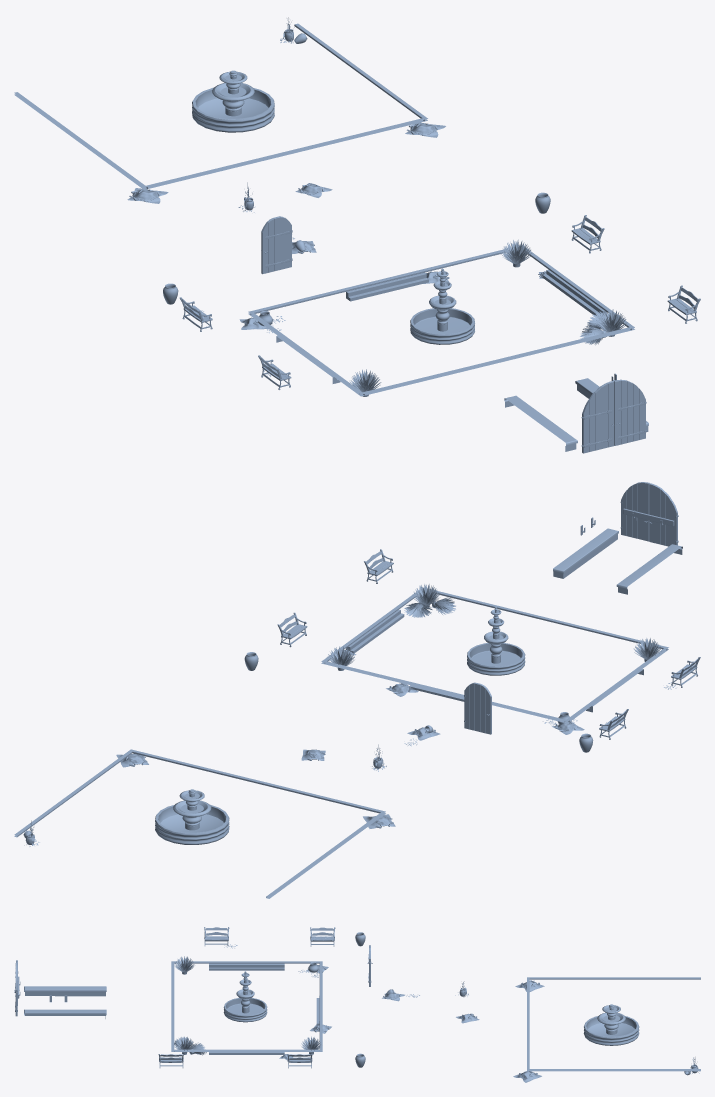
The model's file is SM_floor1_assets.fbx.
3 views of the same model, one above another, from view 1: azimuth 30°, elevation 25°; view 2: azimuth 150°, elevation 25°; view 3: azimuth 270°, elevation 25° (orthographic). The views are drawn at different scales.
Parts seen in each view (by area): view 1: polySurface1, Treim_floorbalcomy1, polySurface690, Fountian_high:polySurface1, polySurface783, polySurface784, Dining_table_v01:Dining_table_v01:polySurface148, Hallway52, Fireplace:polySurface19, Hallway53; view 2: polySurface1, Treim_floorbalcomy1, polySurface690, Fountian_high:polySurface1, polySurface783, polySurface784, Dining_table_v01:Dining_table_v01:polySurface148, Fireplace:polySurface20, Fireplace:polySurface19; view 3: polySurface1, Treim_floorbalcomy1, polySurface690, Fountian_high:polySurface1, Fireplace:polySurface19, Hallway54, Fireplace:polySurface20, Fireplace:Fireplace:Fireplace:Fireplace:polySurface1, table_Bench:polySurface1, Fireplace:Fireplace:Fireplace:Fireplace:polySurface103, Fireplace:Fireplace:Fireplace:Fireplace:polySurface102.
Part boxes in pixels (x1=…): polySurface1: x1=192, y1=70, x2=274, y2=132; Treim_floorbalcomy1: x1=248, y1=245, x2=634, y2=396; polySurface690: x1=14, y1=23, x2=427, y2=189; Fountian_high:polySurface1: x1=410, y1=268, x2=474, y2=344; polySurface783: x1=581, y1=381, x2=614, y2=453; polySurface784: x1=614, y1=379, x2=646, y2=445; Dining_table_v01:Dining_table_v01:polySurface148: x1=261, y1=216, x2=292, y2=274; Hallway52: x1=346, y1=272, x2=428, y2=301; Fireplace:polySurface19: x1=504, y1=395, x2=577, y2=451; Hallway53: x1=542, y1=269, x2=606, y2=315; polySurface1: x1=155, y1=789, x2=229, y2=844; Treim_floorbalcomy1: x1=321, y1=587, x2=668, y2=723; polySurface690: x1=14, y1=749, x2=385, y2=898; Fountian_high:polySurface1: x1=467, y1=607, x2=525, y2=675; polySurface783: x1=649, y1=483, x2=678, y2=546; polySurface784: x1=620, y1=482, x2=649, y2=541; Dining_table_v01:Dining_table_v01:polySurface148: x1=464, y1=682, x2=491, y2=734; Fireplace:polySurface20: x1=553, y1=528, x2=618, y2=578; Fireplace:polySurface19: x1=616, y1=544, x2=682, y2=594; polySurface1: x1=583, y1=1004, x2=639, y2=1045; Treim_floorbalcomy1: x1=171, y1=961, x2=322, y2=1051; polySurface690: x1=527, y1=977, x2=700, y2=1071; Fountian_high:polySurface1: x1=223, y1=971, x2=267, y2=1022; Fireplace:polySurface19: x1=24, y1=986, x2=106, y2=996; Hallway54: x1=209, y1=963, x2=284, y2=970; Fireplace:polySurface20: x1=24, y1=1009, x2=106, y2=1018; Fireplace:Fireplace:Fireplace:Fireplace:polySurface1: x1=204, y1=927, x2=229, y2=945; table_Bench:polySurface1: x1=310, y1=927, x2=335, y2=946; Fireplace:Fireplace:Fireplace:Fireplace:polySurface103: x1=158, y1=1054, x2=183, y2=1067; Fireplace:Fireplace:Fireplace:Fireplace:polySurface102: x1=287, y1=1054, x2=312, y2=1068.
Bounding box in the file's own units: 2095 × 375 × 4540.
